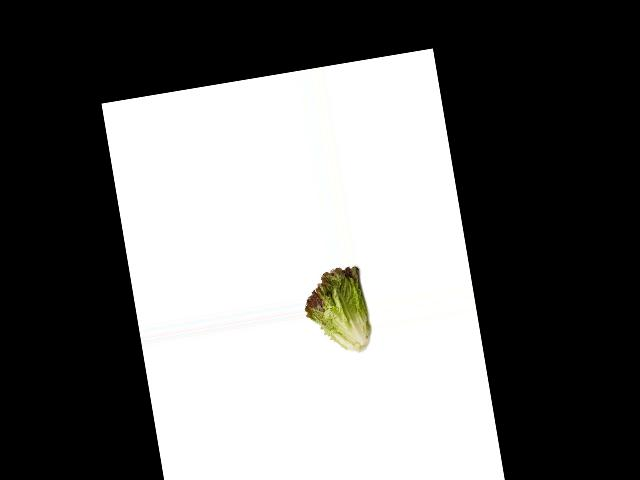lettuce: (300, 262, 372, 358)
